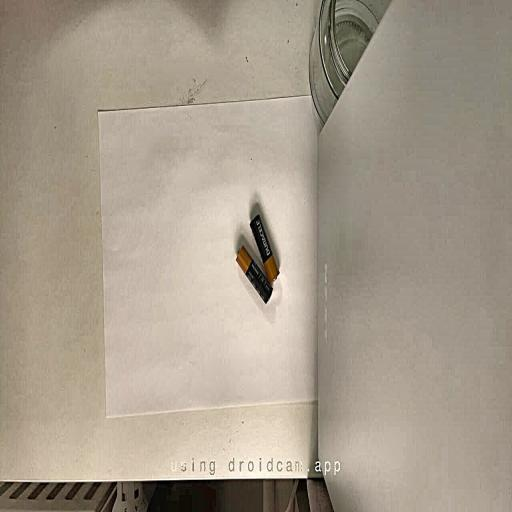DuracellAA: (236, 245, 272, 303), (250, 215, 279, 283)
